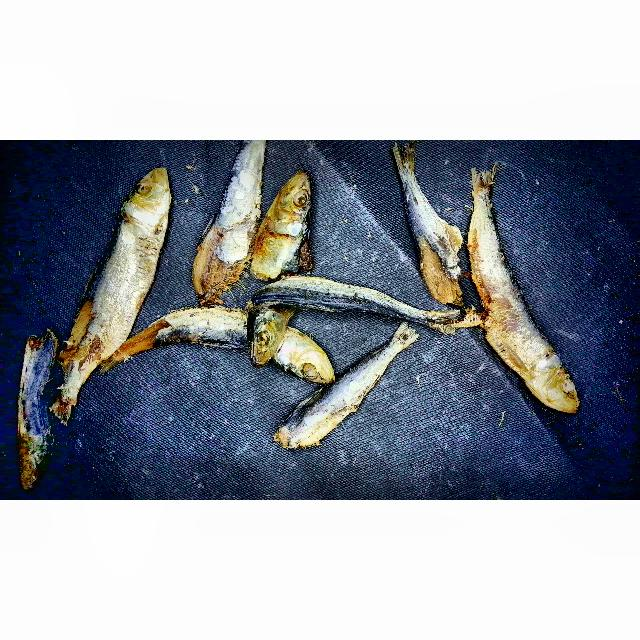Rejected_Body: (62, 229, 162, 375), (272, 346, 389, 453), (467, 205, 543, 366), (185, 146, 264, 300), (119, 303, 249, 372), (401, 180, 470, 308), (249, 277, 417, 319)
Rejected_Head: (1, 339, 66, 492), (250, 167, 320, 281), (514, 353, 587, 417), (126, 166, 176, 242), (242, 302, 292, 373), (278, 331, 338, 383)
Rejected_Tail: (47, 375, 92, 425), (412, 303, 466, 340), (466, 160, 502, 208), (385, 140, 422, 182), (377, 320, 420, 353)
